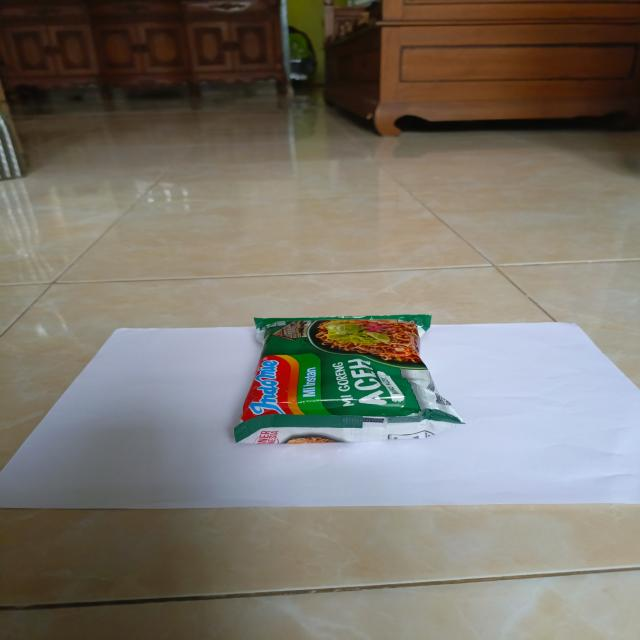gery-salut-coconut: (231, 314, 463, 447)
